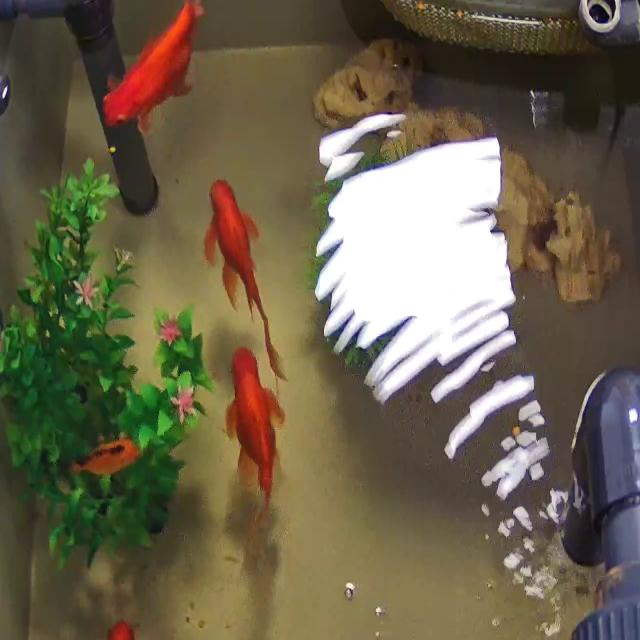fish: (196, 171, 304, 377), (210, 342, 298, 550), (100, 0, 231, 135), (62, 432, 156, 477)
